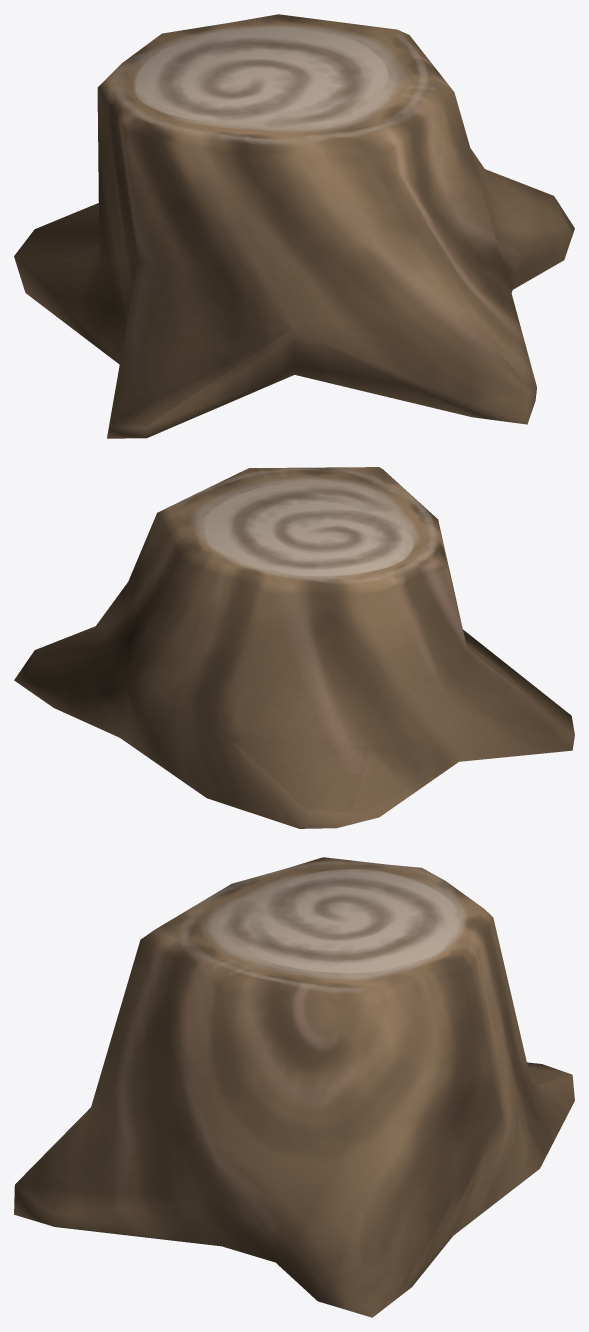
Rendered from tree_willow_stump.fbx.
3 views of the same model, one above another, from view 1: azimuth 30°, elevation 25°; view 2: azimuth 150°, elevation 25°; view 3: azimuth 270°, elevation 25° (orthographic). The views are drawn at different scales.
Visible parts, largest first — view 1: willow_stump.001; view 2: willow_stump.001; view 3: willow_stump.001.
Boxes of the visible parts, left/top/right/bottom form: willow_stump.001: left=14, top=14, right=574, bottom=438; willow_stump.001: left=14, top=467, right=574, bottom=828; willow_stump.001: left=14, top=857, right=574, bottom=1317.
Bounding box in the file's own units: 215 × 93.82 × 190.
